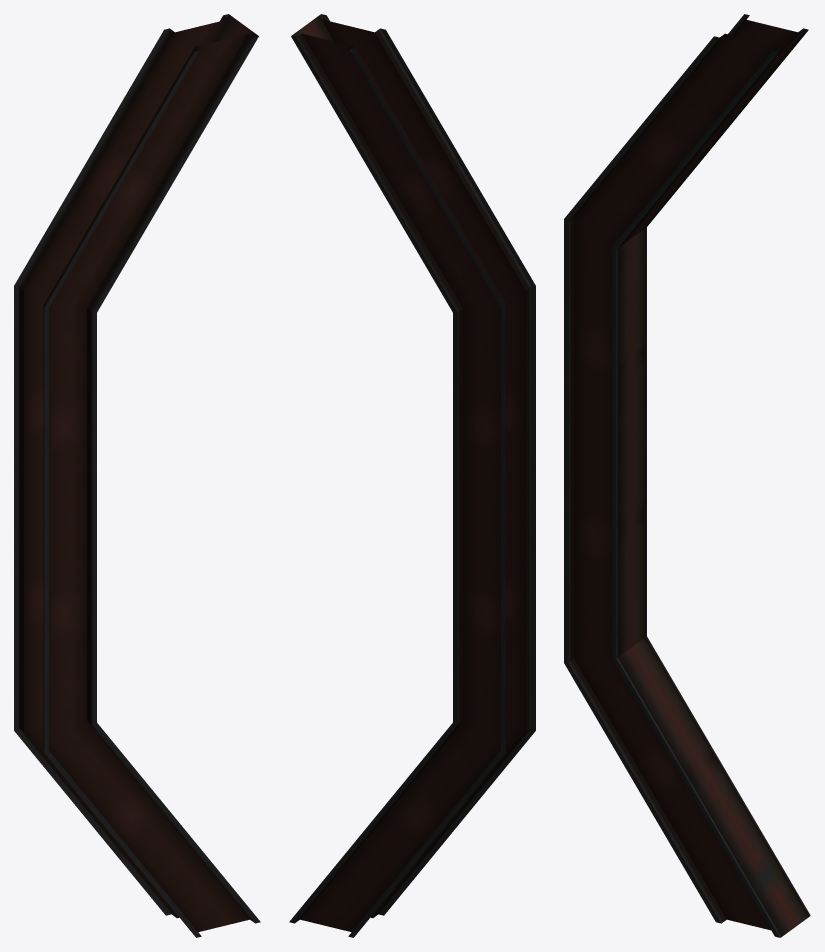
File: Beam_11.FBX
The picture shows the model from 3 angles, left to right: view 1: azimuth 30°, elevation 25°; view 2: azimuth 150°, elevation 25°; view 3: azimuth 330°, elevation 25°; orthographic projection.
Visible parts, largest first — view 1: Beam_11; view 2: Beam_11; view 3: Beam_11.
Part boxes in pixels (x1,y1,x2,y2): Beam_11: (14,14,260,937); Beam_11: (289,14,535,937); Beam_11: (564,14,810,937).
Bounding box in the file's own units: 103 × 403 × 25.
